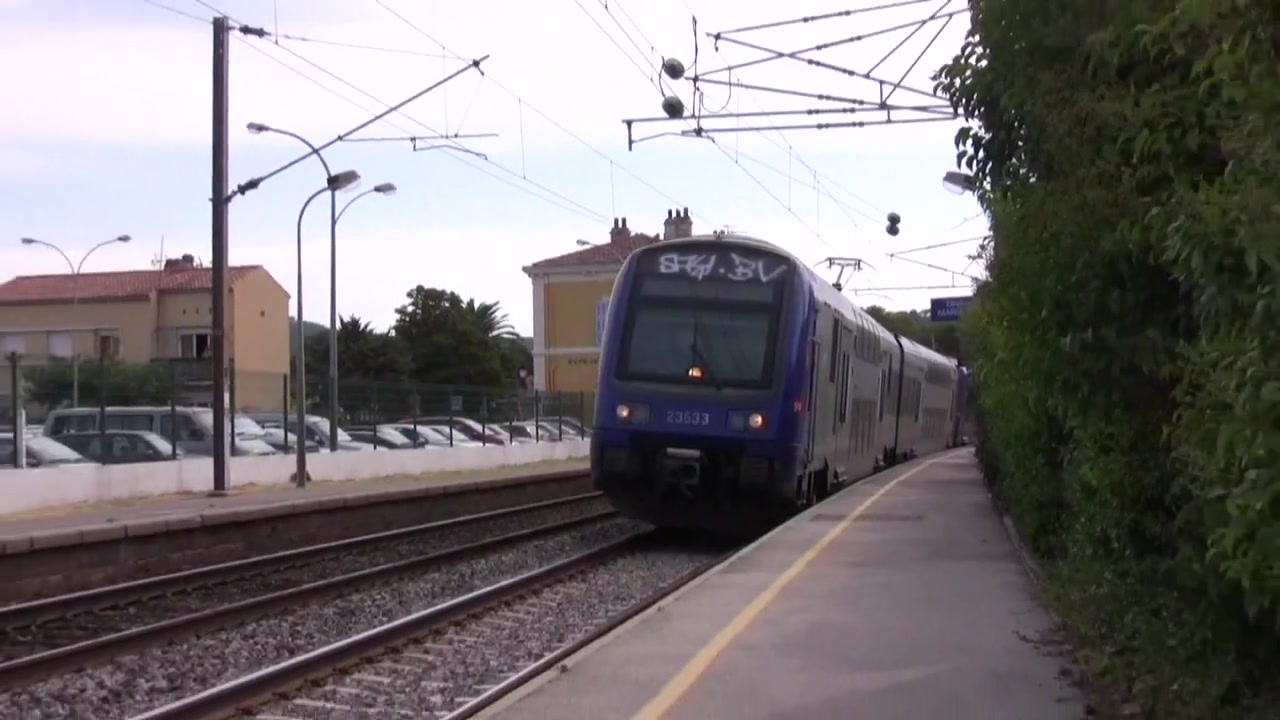train: (589, 231, 980, 534)
